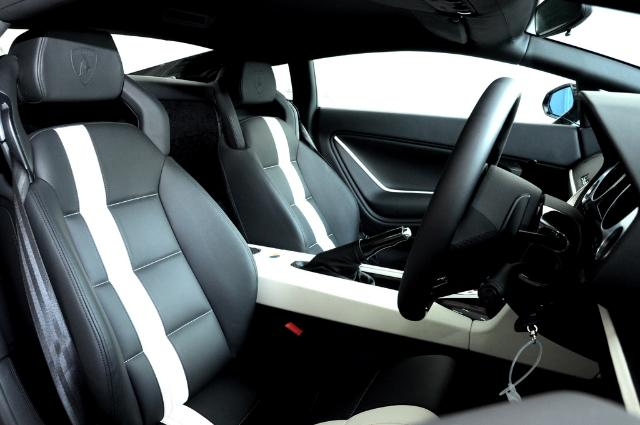Seatbelt: (11, 157, 95, 423), (303, 124, 319, 156)
